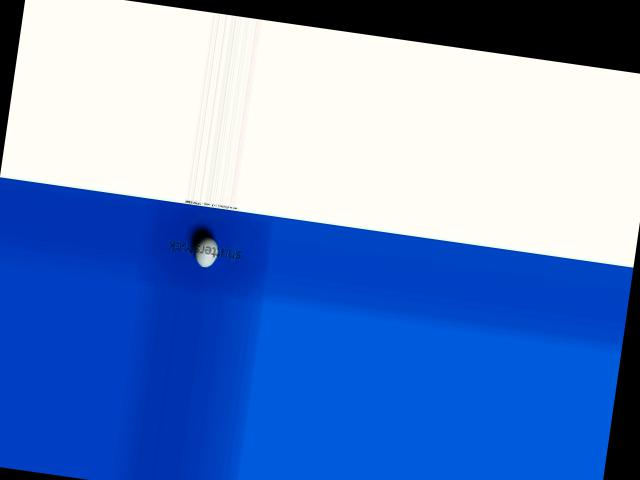egg: (192, 234, 219, 269)
